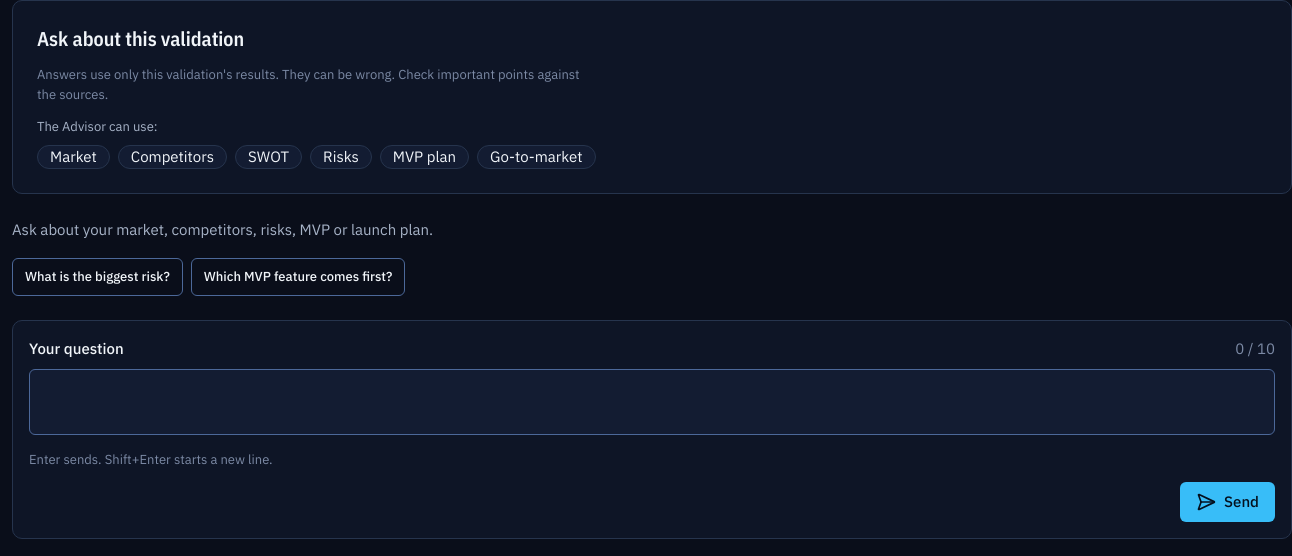
Scenario: Advisor: asking › sends nothing for an empty or too long question, and says why
Click the button "Send".
click(1228, 502)  # box [1180,482,1275,522]
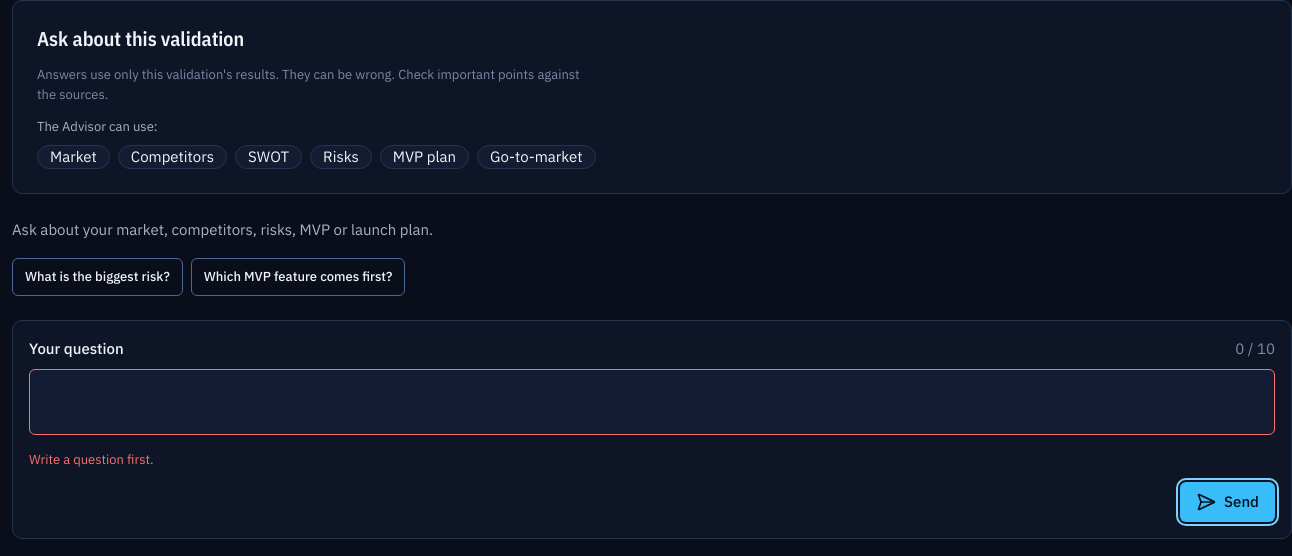
Check: the text "Write a question first." is shown, box [29,451,154,468]
Type "Far too long a question" into the text box labelled "Your question".
click(652, 402); type("Far too long a question")  # box [29,369,1275,435]
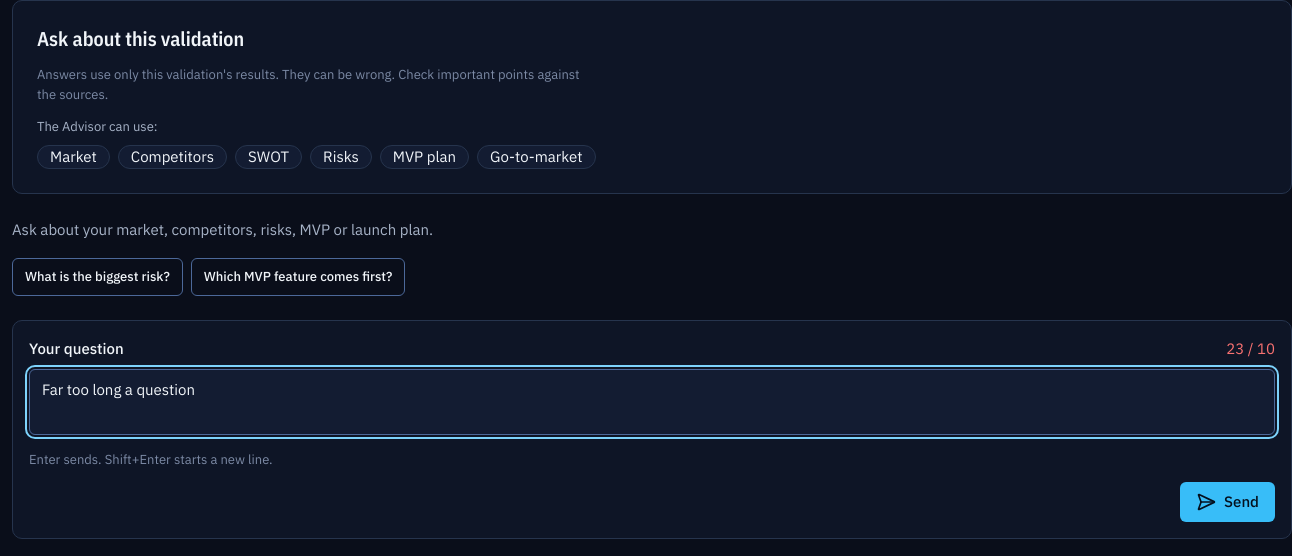
Check: the text "23 / 10" is shown, box [1226,337,1275,361]
Click the button "Send".
click(1228, 502)  # box [1180,482,1275,522]
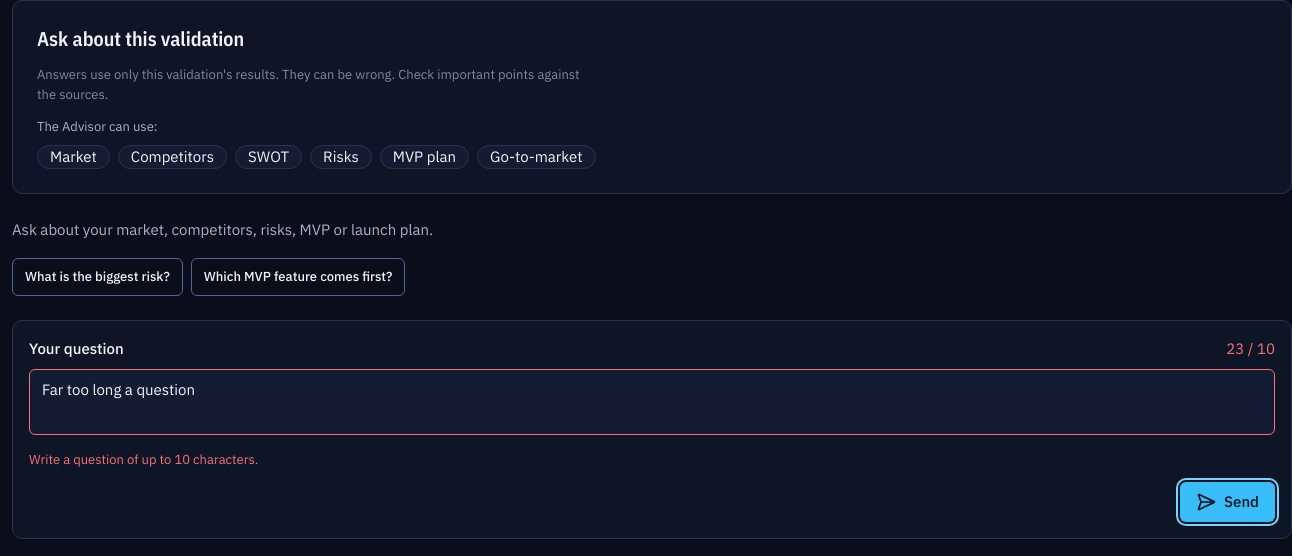
Check: the text "Write a question of up to 10 characters." is shown, box [29,451,258,468]
